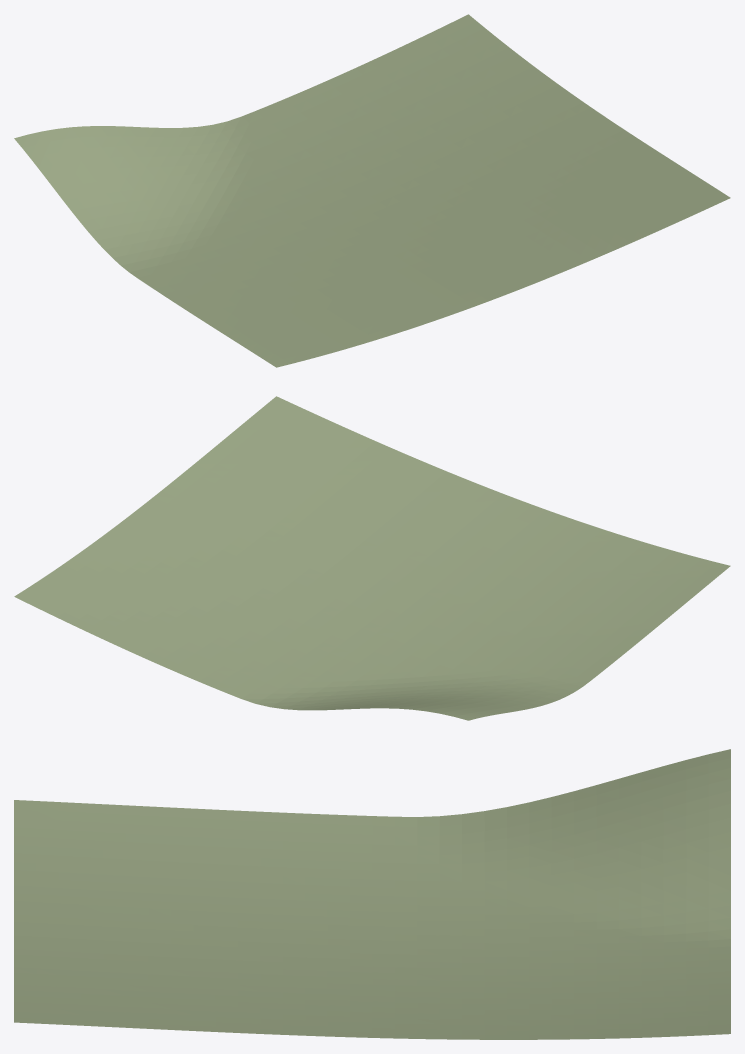
Rendered from desert-22-9.glb.
The picture shows the model from 3 angles, top to bottom: view 1: azimuth 30°, elevation 25°; view 2: azimuth 150°, elevation 25°; view 3: azimuth 270°, elevation 25°; orthographic projection. The views are drawn at different scales.
Parts seen in each view (by area): view 1: desert-22-9; view 2: desert-22-9; view 3: desert-22-9.
Boxes of the visible parts, box(x1,y1,x2,y2) form: desert-22-9: box(14, 14, 730, 367); desert-22-9: box(14, 396, 730, 720); desert-22-9: box(14, 749, 730, 1039).
Size of the model in its own units: 512 by 77.22 by 512.
